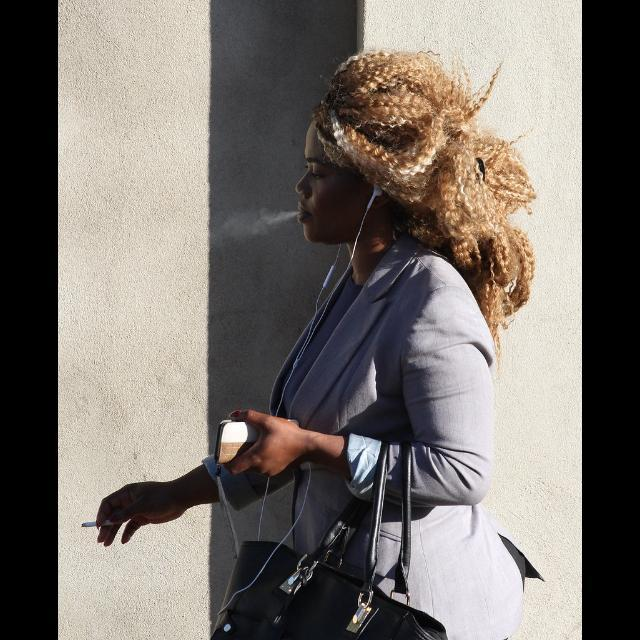rokok: (260, 204, 302, 234)
